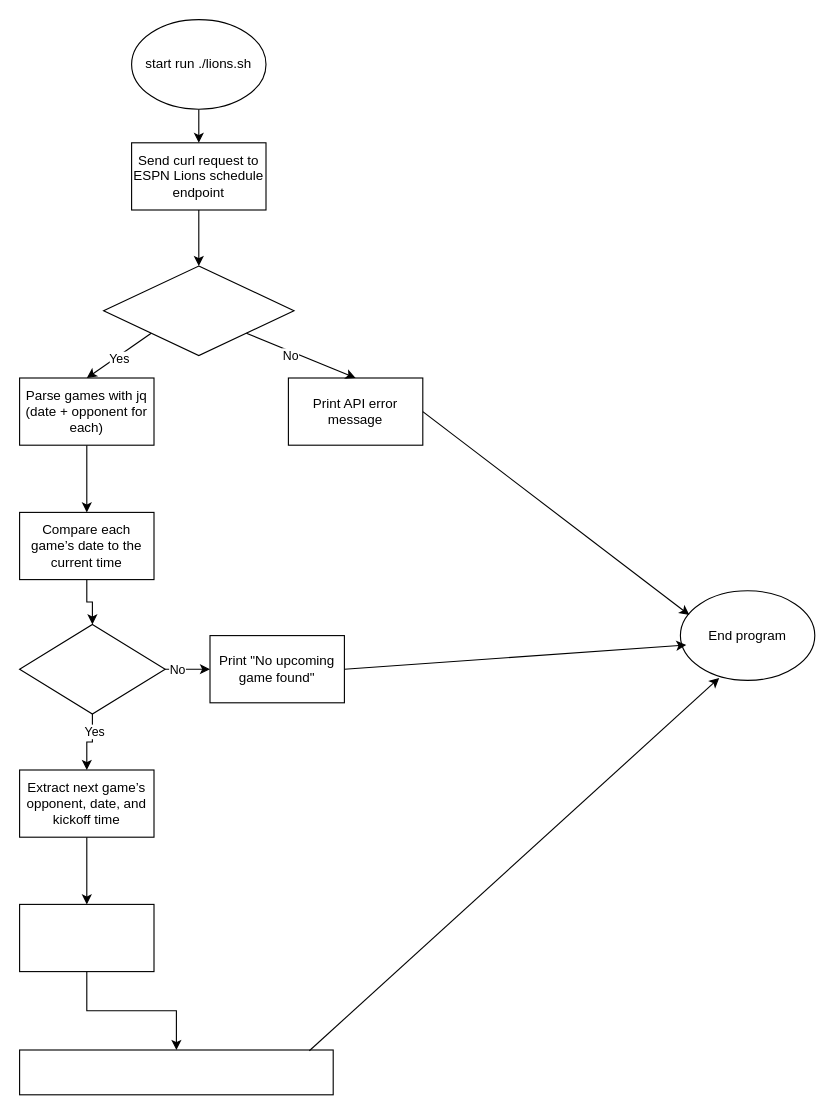
Some shapes in this 834 by 1114 pixel diagram are drawn without their labels. Here are the shapes that lost their labels. From the top down, the centre of each, then its label:
At (198,310): "Request succeeded and JSON returned?".
At (91,668): "Upcoming game found?".
At (86,937): "Convert kickoff from UTC to local time with date".
At (175,1072): "Print next game to terminal".
